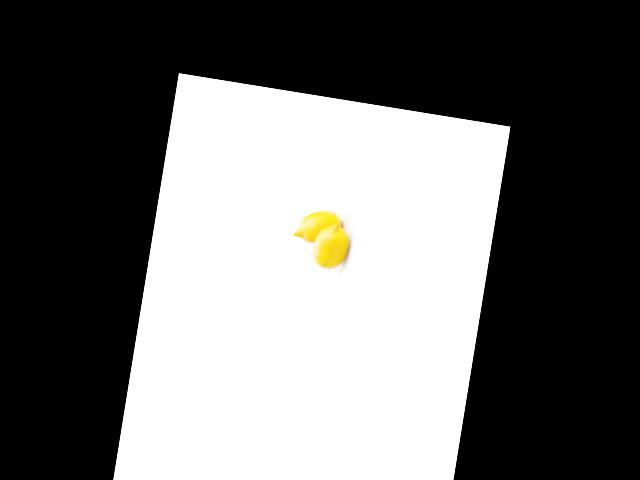lemon: (305, 220, 357, 274)
